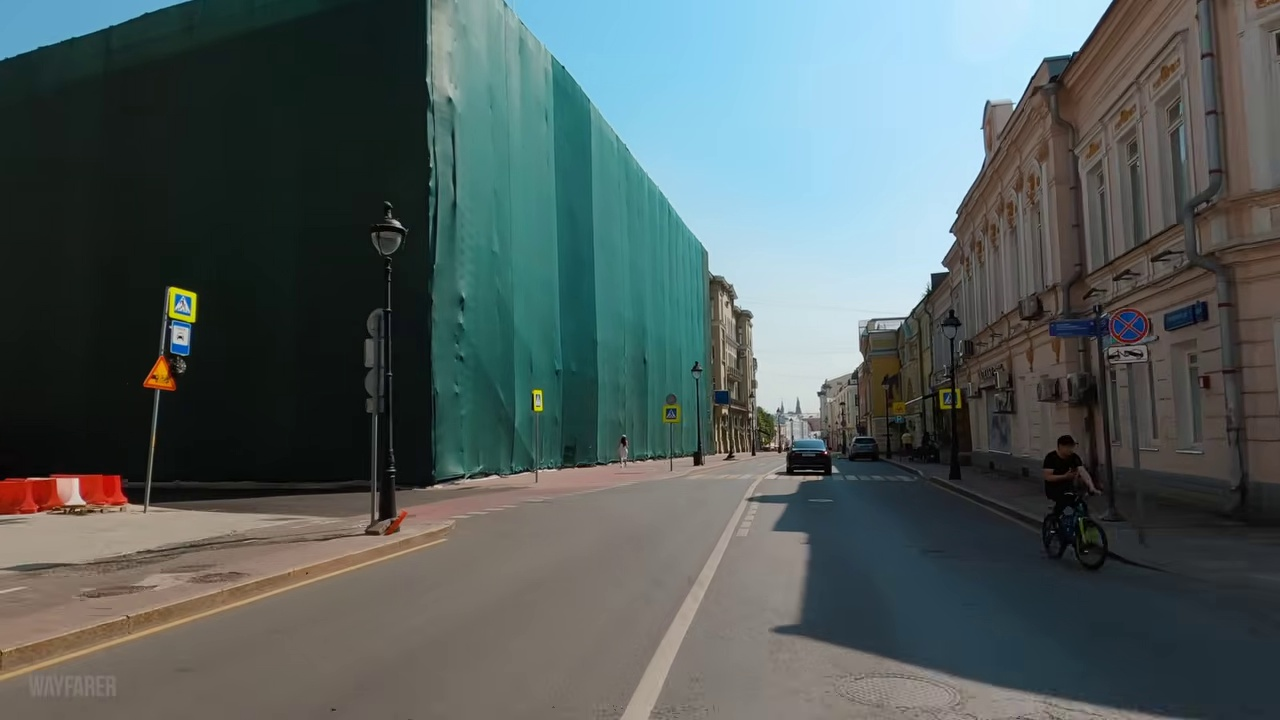apagada: (370, 220, 404, 263), (938, 311, 959, 343)
